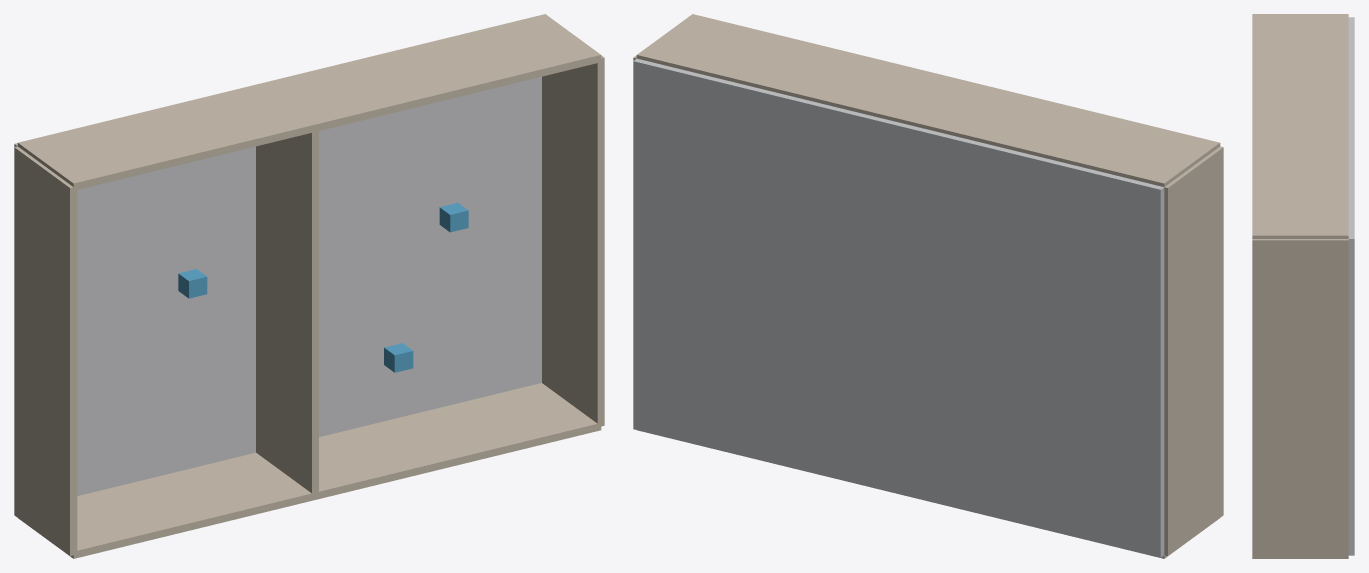
File: floor_0.glb
3 renders of one model, left to right at view 1: azimuth 30°, elevation 25°; view 2: azimuth 150°, elevation 25°; view 3: azimuth 270°, elevation 25°, orthographic. The views are drawn at different scales.
Parts seen in each view (by area): view 1: Floor, Wall_N, Wall_S, Wall_W, Wall_E, Wall_Center, IfcSensor/EnergyMeter_Lab, IfcSensor/Heater_Lab, IfcSensor/AirQuality_Kitchen; view 2: Floor, Wall_N, Wall_W; view 3: Wall_E, Wall_N, Floor, Wall_S.
Part boxes in pixels (bbox=[...]): Floor: bbox=[14, 76, 541, 495]; Wall_N: bbox=[17, 14, 601, 190]; Wall_S: bbox=[18, 383, 601, 558]; Wall_W: bbox=[14, 146, 77, 555]; Wall_E: bbox=[542, 55, 604, 427]; Wall_Center: bbox=[256, 127, 318, 496]; IfcSensor/EnergyMeter_Lab: bbox=[439, 202, 468, 232]; IfcSensor/Heater_Lab: bbox=[384, 343, 413, 372]; IfcSensor/AirQuality_Kitchen: bbox=[178, 269, 207, 298]; Floor: bbox=[633, 58, 1164, 557]; Wall_N: bbox=[636, 14, 1220, 187]; Wall_W: bbox=[1164, 146, 1223, 555]; Wall_E: bbox=[1252, 239, 1348, 557]; Wall_N: bbox=[1252, 14, 1348, 238]; Floor: bbox=[1348, 17, 1354, 555]; Wall_S: bbox=[1252, 557, 1348, 558].
Size of the model in its own units: 12.16 by 8.16 by 2.34.
